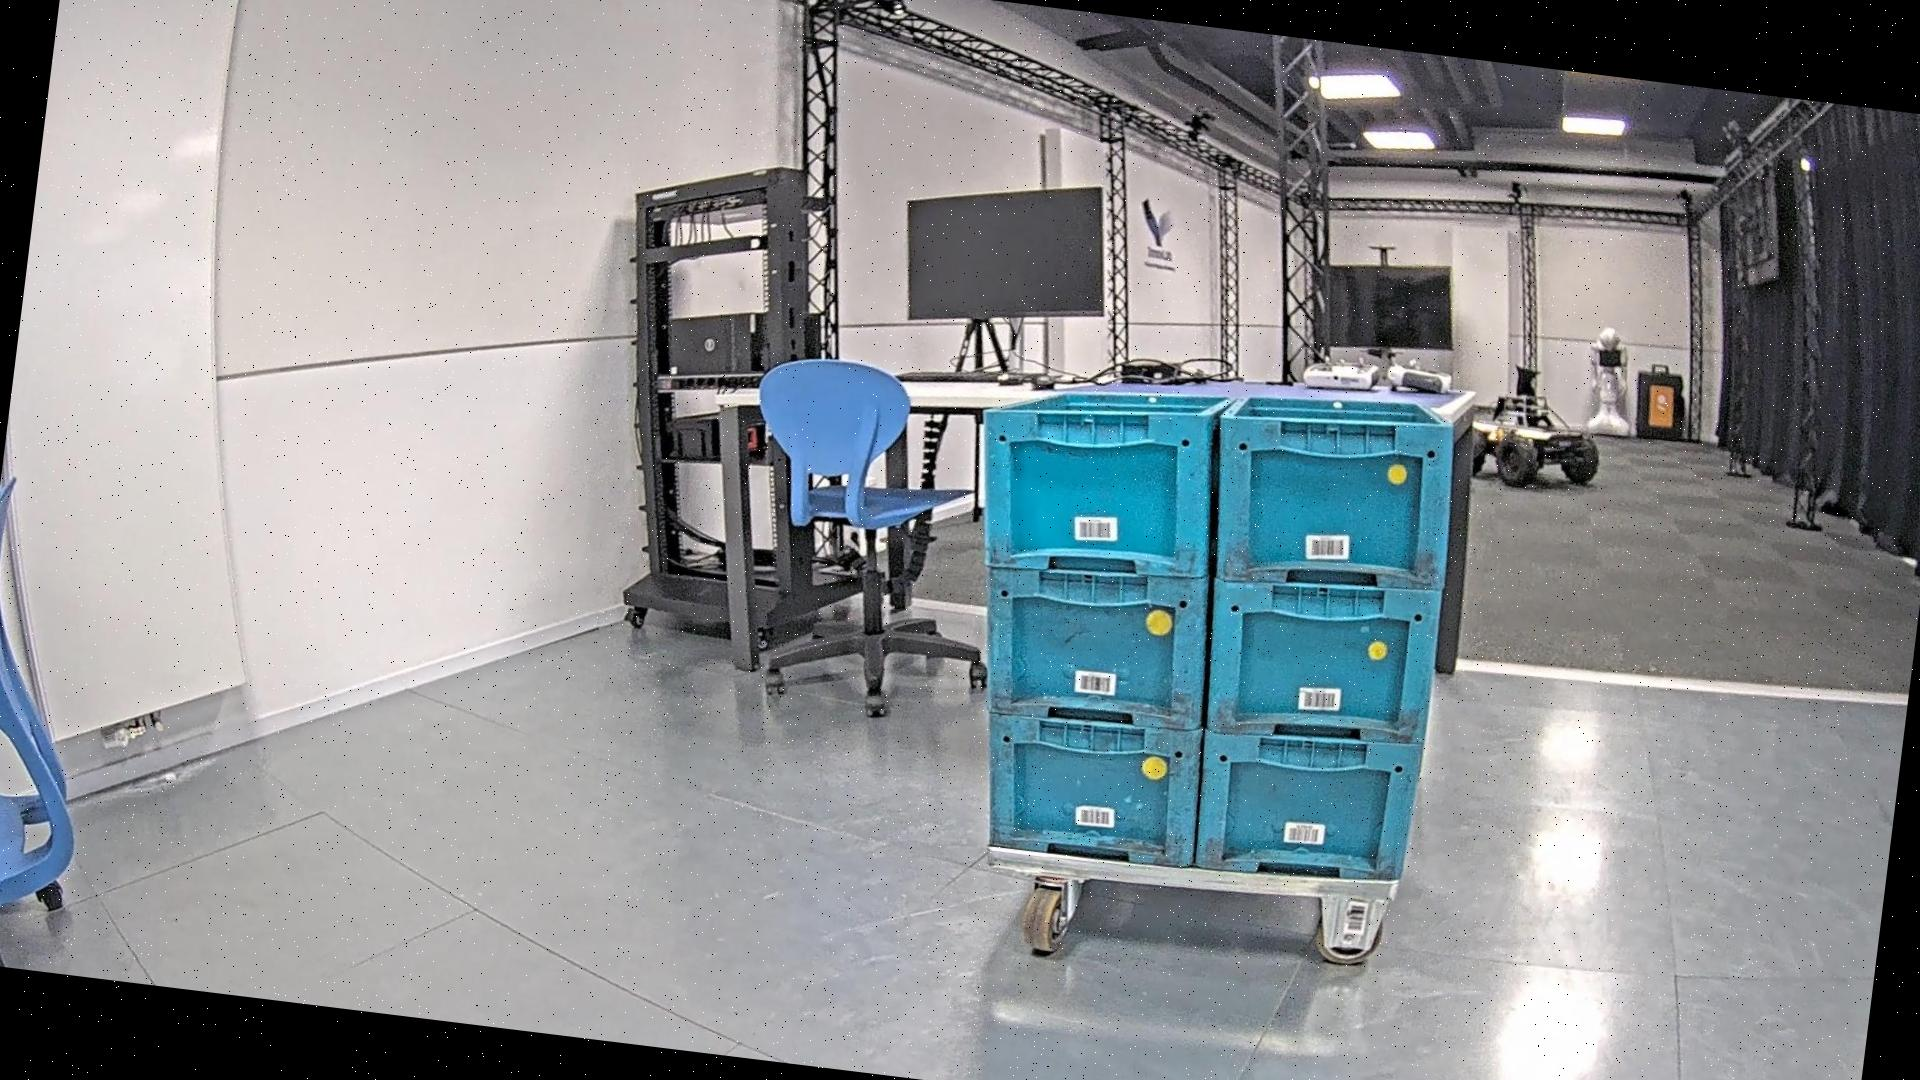BoxB8: (923, 347, 1473, 902)
